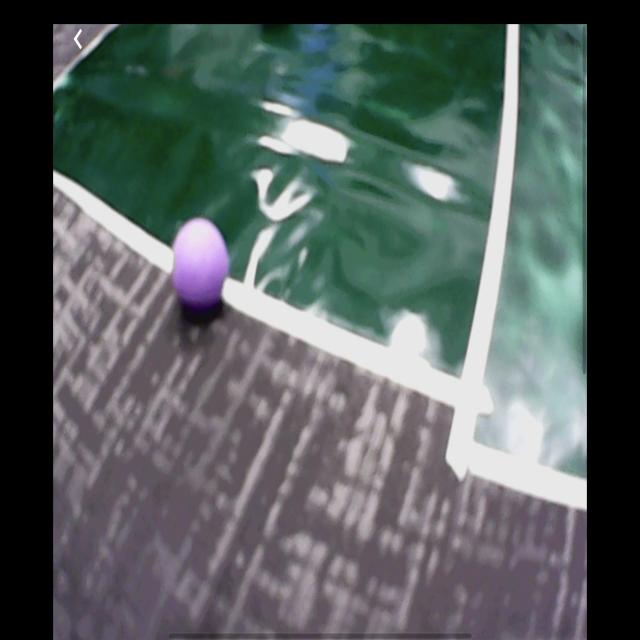ball: (170, 217, 229, 311)
